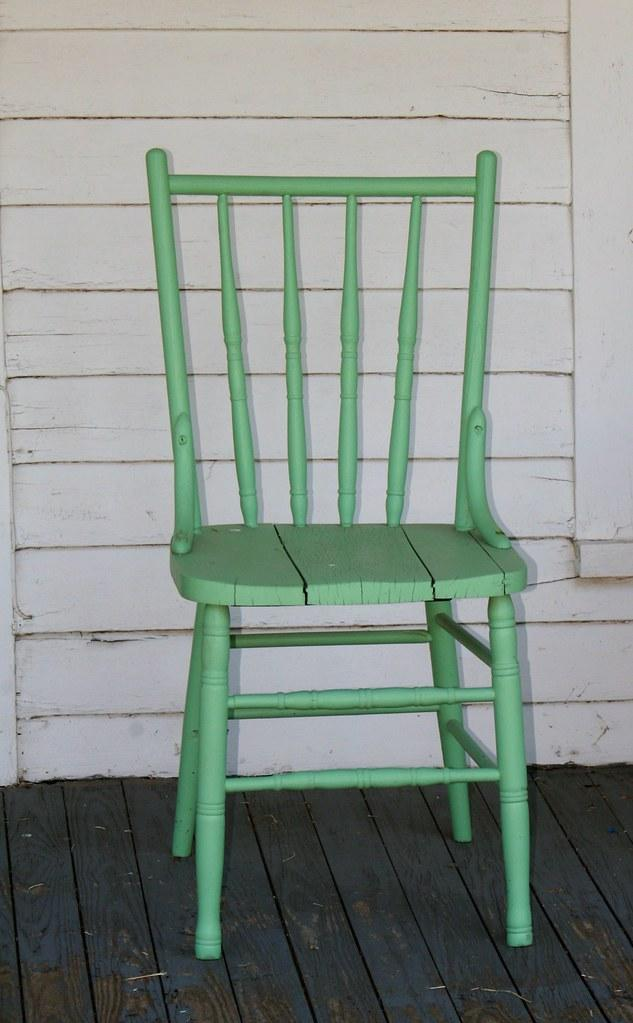chair: (145, 145, 535, 961)
